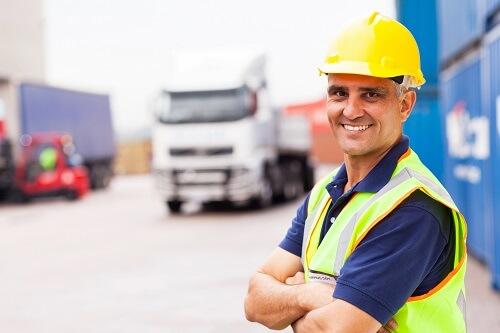helmet: (319, 13, 430, 87)
